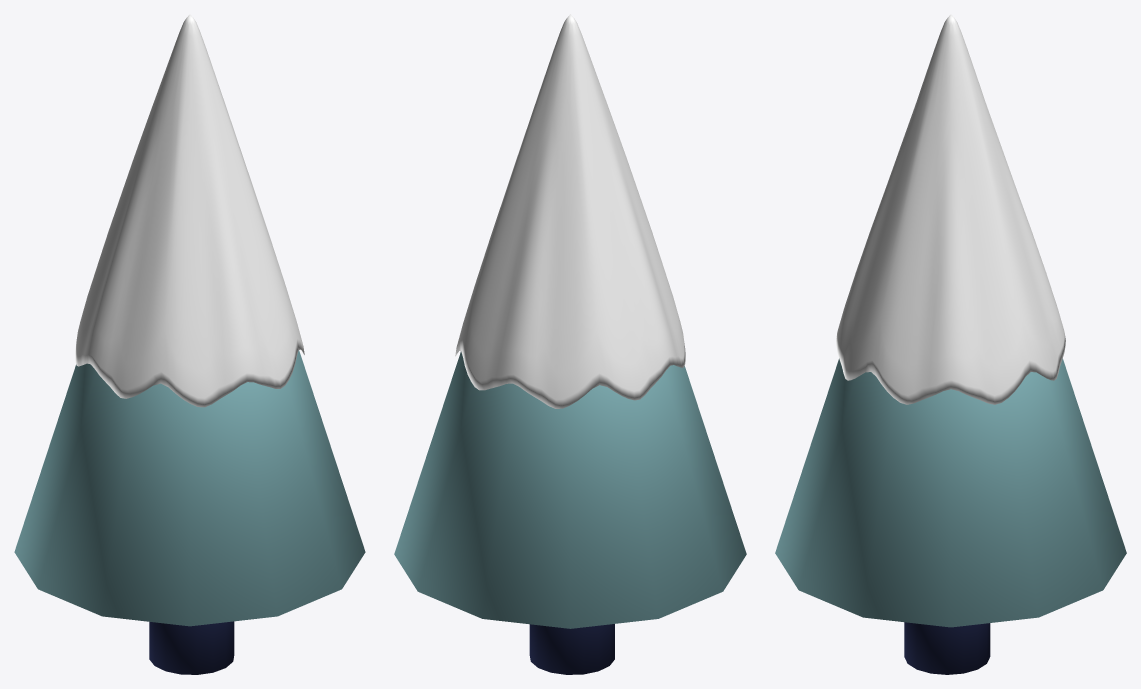
File: sapin-neige.gltf
3 renders of one model, left to right at view 1: azimuth 30°, elevation 25°; view 2: azimuth 150°, elevation 25°; view 3: azimuth 270°, elevation 25°, orthographic.
Visible parts, largest first — view 1: sapin, sapin.001, sapin.tronc; view 2: sapin, sapin.001, sapin.tronc; view 3: sapin, sapin.001, sapin.tronc.
Boxes of the visible parts, x1,y1,x2,y2 form: sapin: (14,350,365,626); sapin.001: (75,14,304,407); sapin.tronc: (149,621,234,674); sapin: (394,351,746,628); sapin.001: (455,14,685,408); sapin.tronc: (529,624,614,674); sapin: (775,358,1126,627); sapin.001: (836,14,1065,404); sapin.tronc: (904,622,990,674).
Size of the model in its own units: 1.29 by 2.61 by 1.29.
